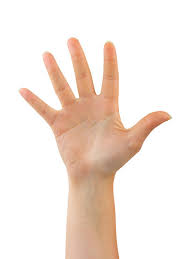palm: (58, 101, 125, 173)
